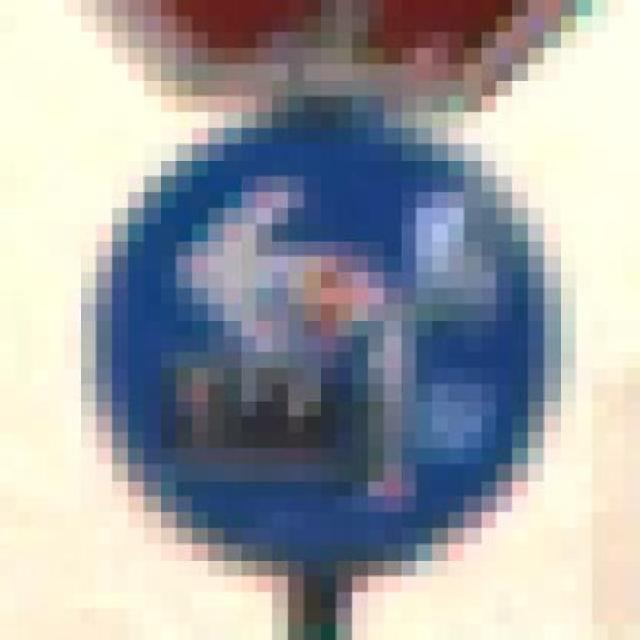Turn left ahead: (96, 96, 576, 576)
